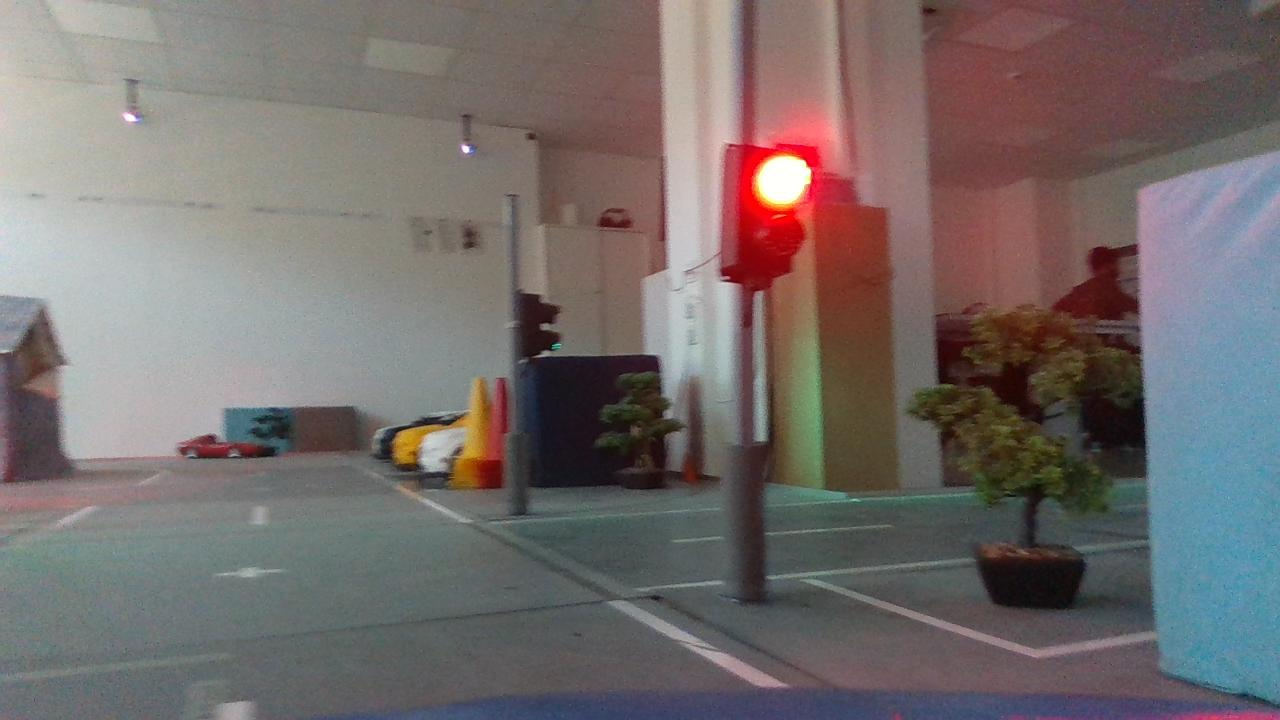traffic_light_red: (694, 123, 833, 307)
